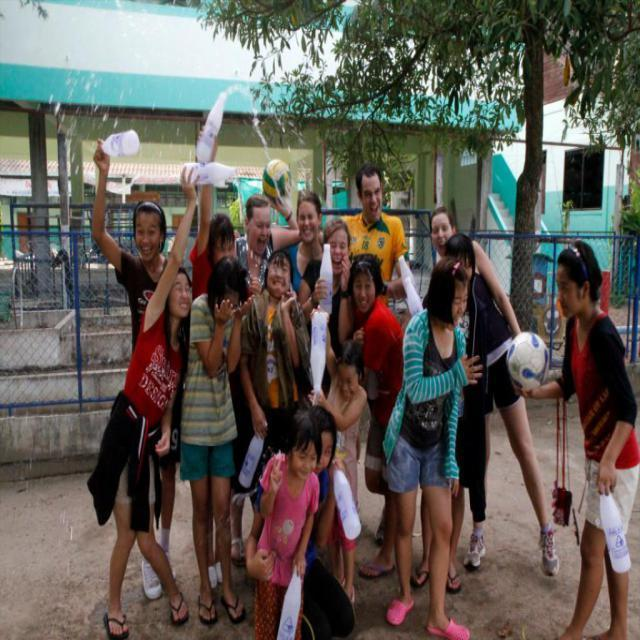football: (491, 322, 566, 397)
